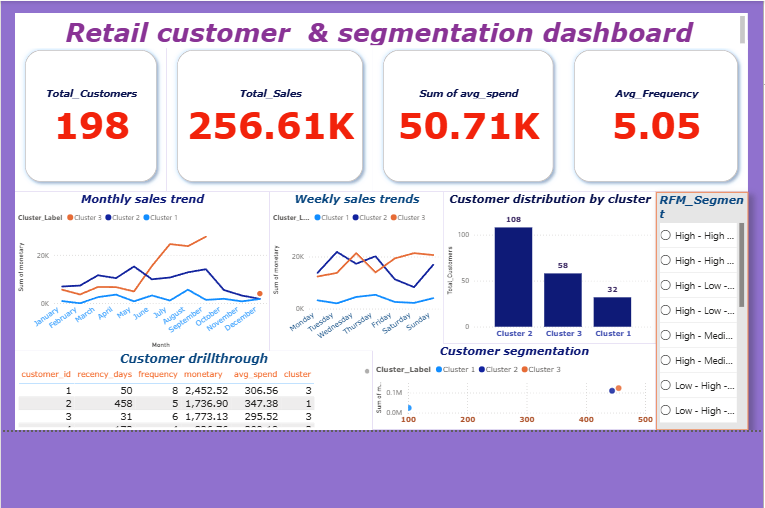

The dashboard page shown, as its layout file describes it:
{"tool":"powerbi","page":{"name":"Dash board","canvas":[1280,720],"ordinal":4},"visuals":[{"type":"cardVisual","fields":{"Data":["customer_segments_final.Total_Customers"]},"box":[23.5,65.5,255.3,255.3],"z":0},{"type":"cardVisual","fields":{"Data":["customer_segments_final.Total_Sales"]},"box":[278.8,65.5,346,255.3],"z":1000},{"type":"cardVisual","fields":{"Data":["Sum(customer_segments_final.avg_spend)"]},"box":[624.9,65.5,320.8,255.3],"z":2000},{"type":"cardVisual","fields":{"Data":["customer_segments_final.Avg_Frequency"]},"box":[945.7,65.5,309.1,255.3],"z":3000},{"type":"columnChart","title":"Customer distribution by cluster","fields":{"Category":["customer_segments_final.Cluster_Label"],"Y":["customer_segments_final.Total_Customers"]},"box":[744.1,320.8,356.1,255.3],"z":4000},{"type":"lineChart","title":"Monthly sales trend","fields":{"Category":["customer_segments_final.Month"],"Y":["Sum(customer_segments_final.monetary)"],"Series":["customer_segments_final.Cluster_Label"]},"box":[23.5,320.8,428.3,267.1],"z":5000},{"type":"lineChart","title":"Weekly sales trends","fields":{"Category":["customer_segments_final.Day_of_Week"],"Y":["Sum(customer_segments_final.monetary)"],"Series":["customer_segments_final.Cluster_Label"]},"box":[451.9,320.8,292.3,267.1],"z":6000},{"type":"tableEx","title":"Customer drillthrough","fields":{"Values":["customer_segments_final.customer_id","customer_segments_final.recency_days","customer_segments_final.frequency","customer_segments_final.monetary","customer_segments_final.avg_spend","customer_segments_final.cluster"]},"box":[23.5,587.9,601.4,132.7],"z":7000},{"type":"listSlicer","fields":{"Values":["customer_segments_final.RFM_Segment"]},"box":[1100.3,320.8,154.5,399.8],"z":8000},{"type":"scatterChart","title":"Customer segmentation","fields":{"X":["Sum(customer_segments_final.frequency)"],"Y":["Sum(customer_segments_final.monetary)"],"Series":["customer_segments_final.Cluster_Label"]},"box":[624.9,576.2,475.4,144.5],"z":9000},{"type":"textbox","box":[23.5,20.2,1231.3,58.8],"z":10000}]}

Visuals, with their boxes on the page's 1280x720 design canvas (x1, y1, x2, y2). These are canvas units, not pixel positions in the 765x508 screenshot, which may show the page scaled, cropped or inside an application window:
cardVisual - customer_segments_final.Total_Customers: bbox=(24, 66, 279, 321)
cardVisual - customer_segments_final.Total_Sales: bbox=(279, 66, 625, 321)
cardVisual - Sum(customer_segments_final.avg_spend): bbox=(625, 66, 946, 321)
cardVisual - customer_segments_final.Avg_Frequency: bbox=(946, 66, 1255, 321)
"Customer distribution by cluster" columnChart: bbox=(744, 321, 1100, 576)
"Monthly sales trend" lineChart: bbox=(24, 321, 452, 588)
"Weekly sales trends" lineChart: bbox=(452, 321, 744, 588)
"Customer drillthrough" tableEx: bbox=(24, 588, 625, 721)
listSlicer - customer_segments_final.RFM_Segment: bbox=(1100, 321, 1255, 721)
"Customer segmentation" scatterChart: bbox=(625, 576, 1100, 721)
textbox: bbox=(24, 20, 1255, 79)
